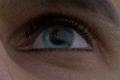eye: (44, 26, 73, 48)
